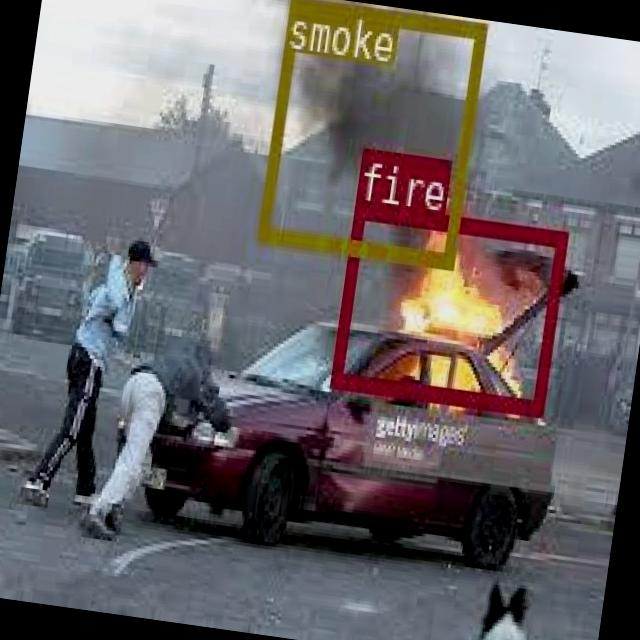fire: (328, 198, 567, 412)
smoke: (256, 0, 485, 266)
